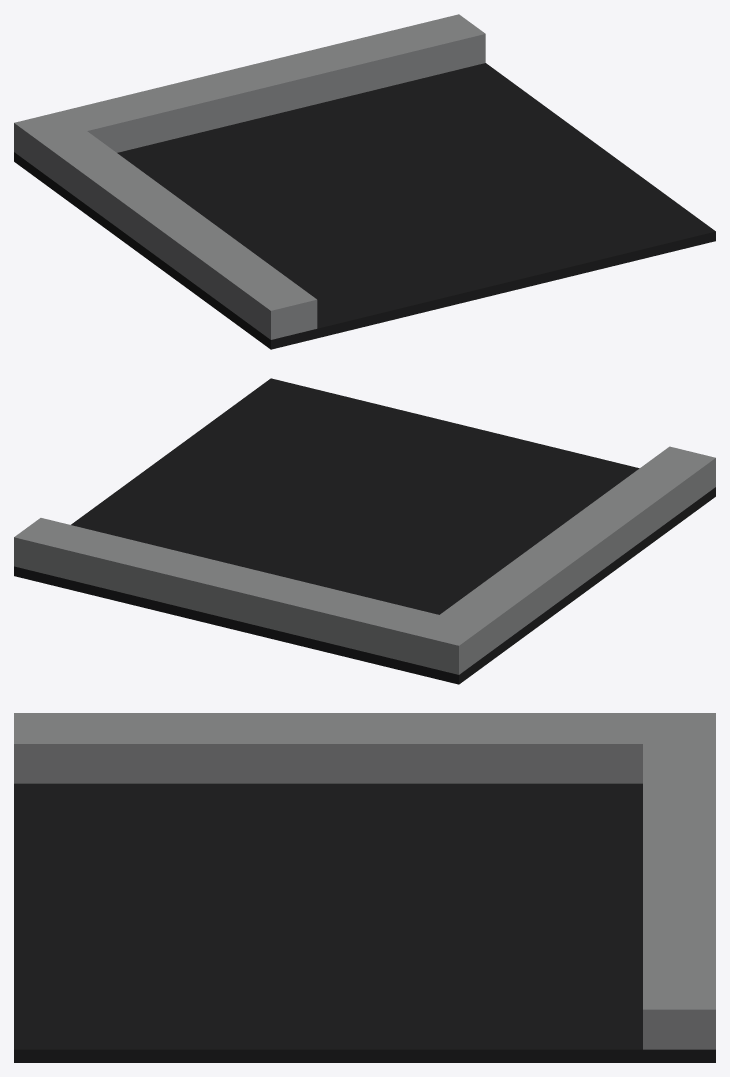
File: upperrigthcorner.gltf
The picture shows the model from 3 angles, top to bottom: view 1: azimuth 30°, elevation 25°; view 2: azimuth 150°, elevation 25°; view 3: azimuth 270°, elevation 25°; orthographic projection. The views are drawn at different scales.
Visible parts, largest first — view 1: RoadPlane, gutter (×2); view 2: RoadPlane, gutter (×2); view 3: RoadPlane, gutter (×2).
Boxes of the visible parts, bbox=[...] form: RoadPlane: bbox=[14, 63, 715, 349]; gutter (×2): bbox=[14, 14, 485, 339]; RoadPlane: bbox=[14, 378, 715, 684]; gutter (×2): bbox=[14, 446, 715, 674]; RoadPlane: bbox=[14, 783, 715, 1062]; gutter (×2): bbox=[14, 713, 715, 1049].
Size of the model in its own units: 3 by 0.25 by 3.
Materials: 1 (1 with a texture image).
